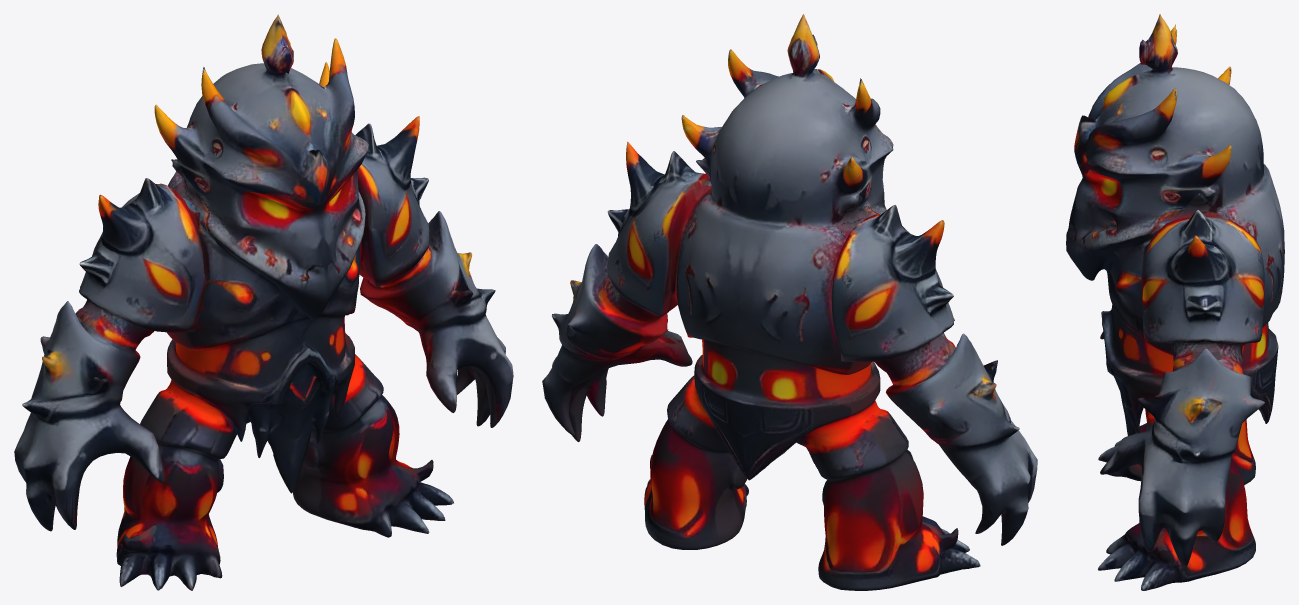
Rendered from lava_titan.glb.
The picture shows the model from 3 angles, left to right: view 1: azimuth 30°, elevation 25°; view 2: azimuth 150°, elevation 25°; view 3: azimuth 270°, elevation 25°; orthographic projection. The views are drawn at different scales.
Parts seen in each view (by area): view 1: model; view 2: model; view 3: model.
Boxes of the visible parts, box(x1,y1,x2,y2) form: model: box(14, 14, 513, 590); model: box(542, 14, 1037, 590); model: box(1066, 14, 1284, 590).
Bounding box in the file's own units: 1.81 × 1.89 × 0.7459.
1 material, 1 textured.
